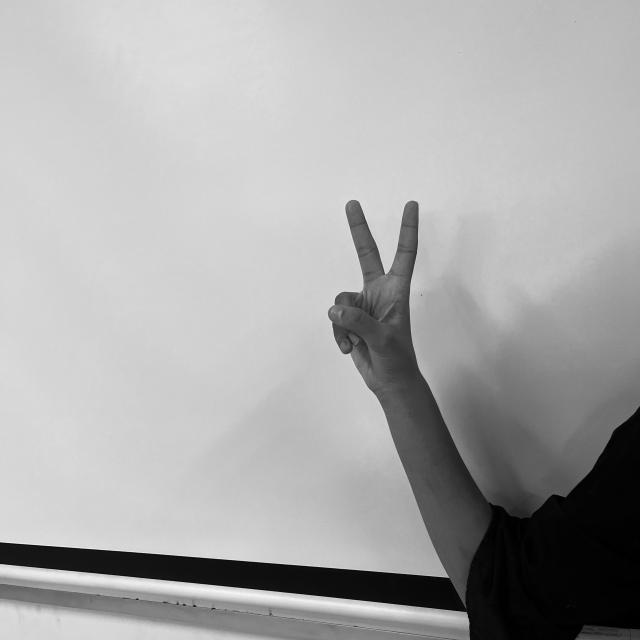Letra V: (325, 192, 424, 389)
